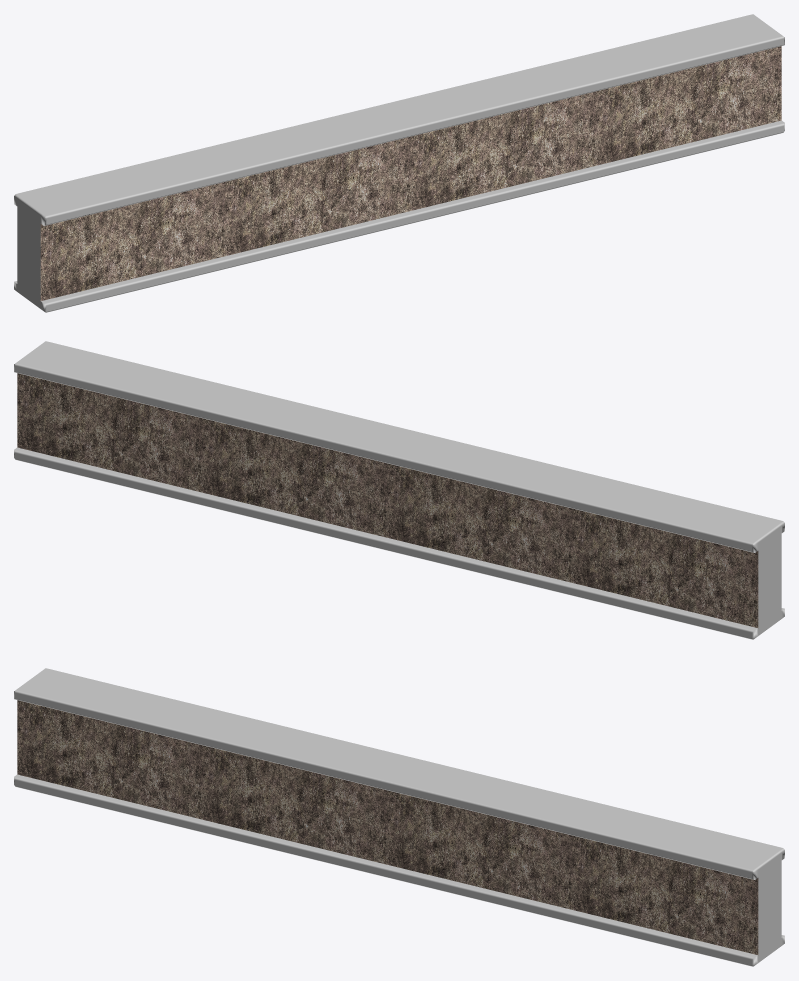
File: Wand_1m_V2.gltf
3 renders of one model, top to bottom at view 1: azimuth 30°, elevation 25°; view 2: azimuth 150°, elevation 25°; view 3: azimuth 330°, elevation 25°, orthographic.
Visible parts, largest first — view 1: Wand_1m_V2; view 2: Wand_1m_V2; view 3: Wand_1m_V2.
Part boxes in pixels (x1,y1,x2,y2): Wand_1m_V2: [14, 14, 784, 312]; Wand_1m_V2: [14, 341, 784, 639]; Wand_1m_V2: [14, 668, 784, 966].
Size of the model in its own units: 8 by 1 by 0.6.
